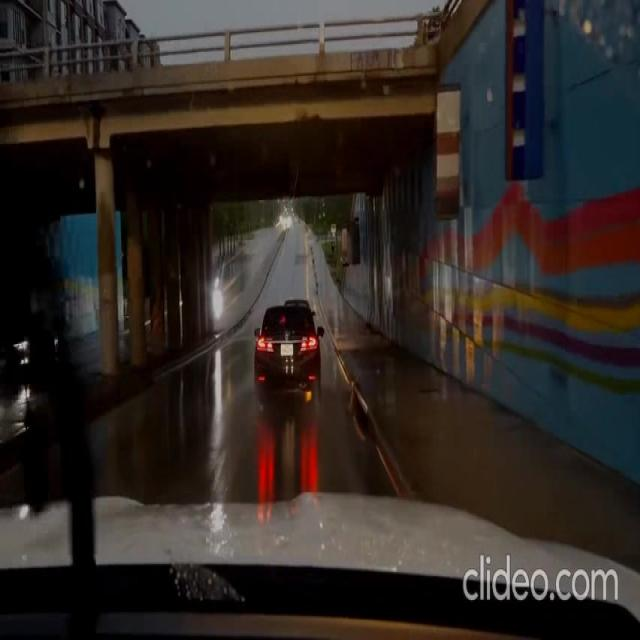Car: (251, 304, 320, 400)
